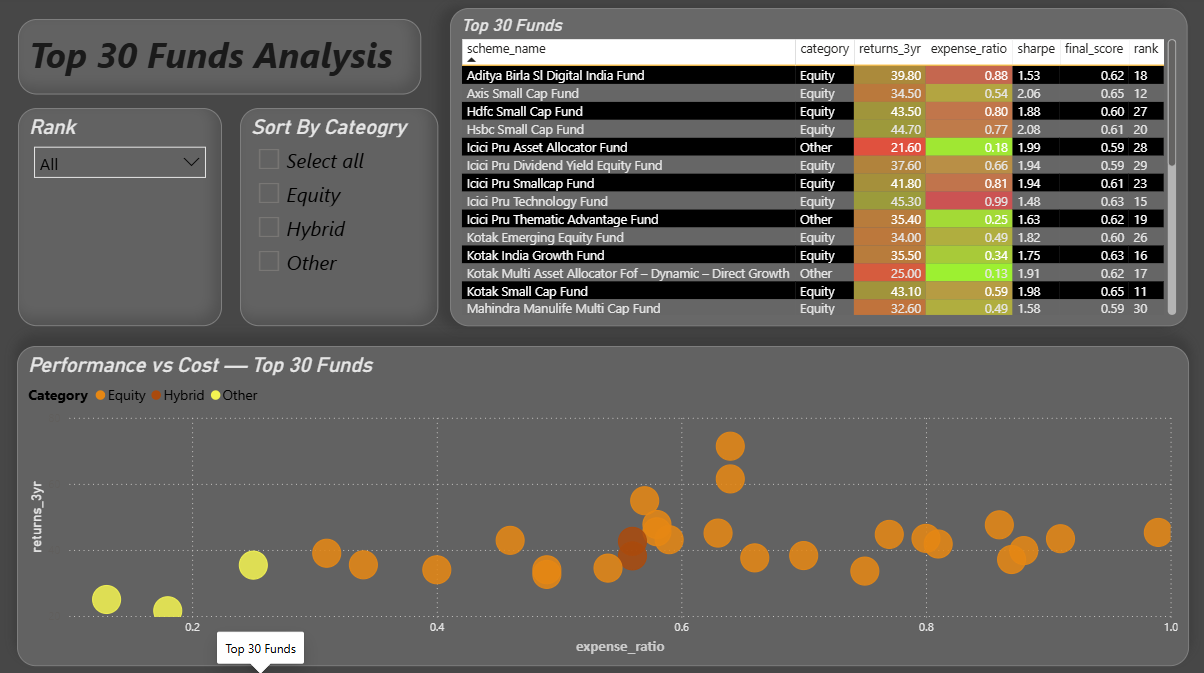

The page's visual inventory and layout, read from the dashboard file:
{"tool":"powerbi","page":{"name":"Top 30 Funds","canvas":[1280,720],"ordinal":1},"visuals":[{"type":"tableEx","title":"Top 30 Funds","fields":{"Values":["top_30_mutual_funds.scheme_name","top_30_mutual_funds.category","top_30_mutual_funds.returns_3yr","top_30_mutual_funds.expense_ratio","top_30_mutual_funds.sharpe","top_30_mutual_funds.final_score","top_30_mutual_funds.rank"]},"box":[478.6,11.4,781.4,337.1],"z":0},{"type":"scatterChart","title":"Performance vs Cost — Top 30 Funds","fields":{"X":["top_30_mutual_funds.expense_ratio"],"Y":["top_30_mutual_funds.returns_3yr"],"Size":["CountNonNull(top_30_mutual_funds.fund_size_cr)"],"Series":["top_30_mutual_funds.category"]},"box":[20,370,1241.4,338.6],"z":1000},{"type":"slicer","title":"Sort By Cateogry ","fields":{"Values":["top_30_mutual_funds.category"]},"box":[255.7,117.1,210,231.4],"z":2000},{"type":"slicer","title":"Rank","fields":{"Values":["top_30_mutual_funds.rank"]},"box":[21.4,117.1,215.7,231.4],"z":3000},{"type":"textbox","box":[21.4,22.9,427.1,80],"z":4000}]}

Visuals, with their boxes in screenshot pixels (x1, y1, x2, y2), scaled from the page's 1280x720 canvas onto the 1204x673 screenshot:
"Top 30 Funds" tableEx: 450/11/1185/326
"Performance vs Cost — Top 30 Funds" scatterChart: 19/346/1187/662
"Sort By Cateogry " slicer: 241/109/438/326
"Rank" slicer: 20/109/223/326
textbox: 20/21/422/96
